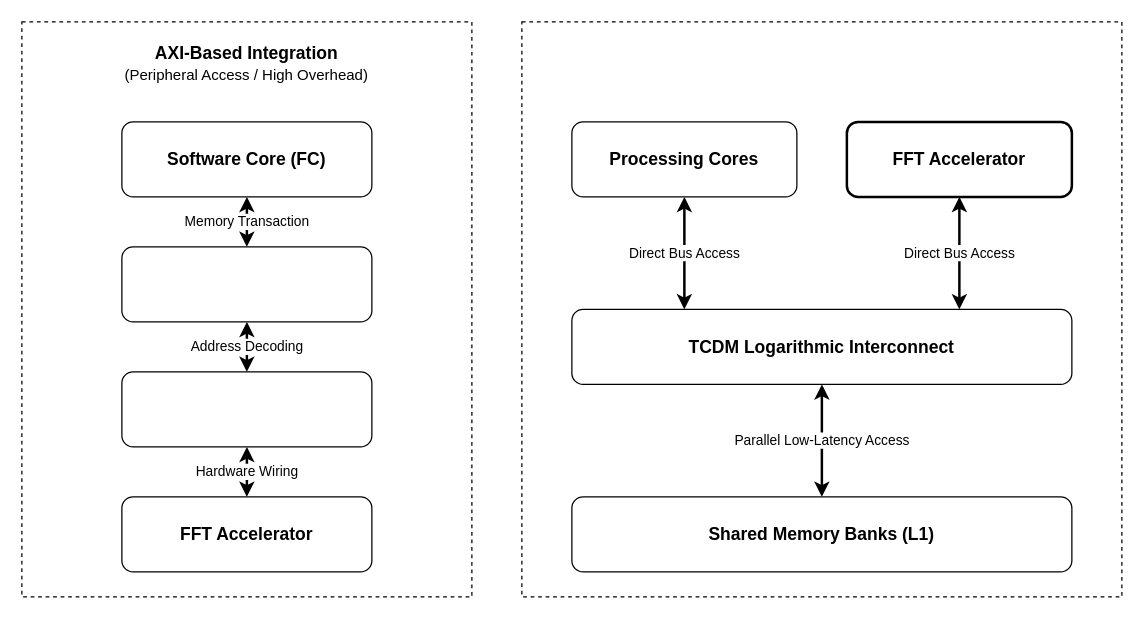
This 1144x619 diagram has some shape labels left out. Each missing label, with the box of its shape:
AXI Crossbar: (121, 246, 372, 322)
Protocol Conversion & Register File Layer: (121, 371, 372, 447)
TCDM-Based Integration (Direct Shared-Memory Access / Low Latency): (521, 21, 1122, 597)
